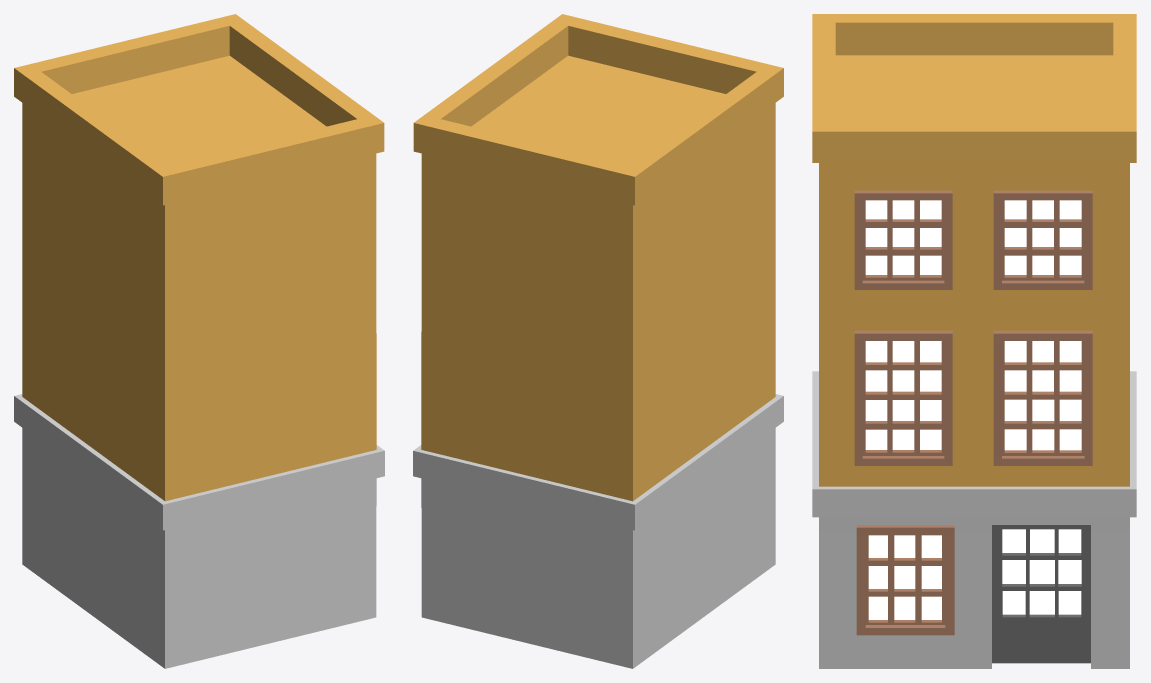
The model's file is House 4.3.fbx.
3 renders of one model, left to right at view 1: azimuth 30°, elevation 25°; view 2: azimuth 150°, elevation 25°; view 3: azimuth 270°, elevation 25°, orthographic. The views are drawn at different scales.
Visible parts, largest first — view 1: House 4.004; view 2: House 4.004; view 3: House 4.004.
Part boxes in pixels (left/top/right/bottom): House 4.004: left=14, top=14, right=384, bottom=668; House 4.004: left=413, top=14, right=783, bottom=668; House 4.004: left=812, top=14, right=1136, bottom=668.
Size of the model in its own units: 857 by 1829 by 995.
